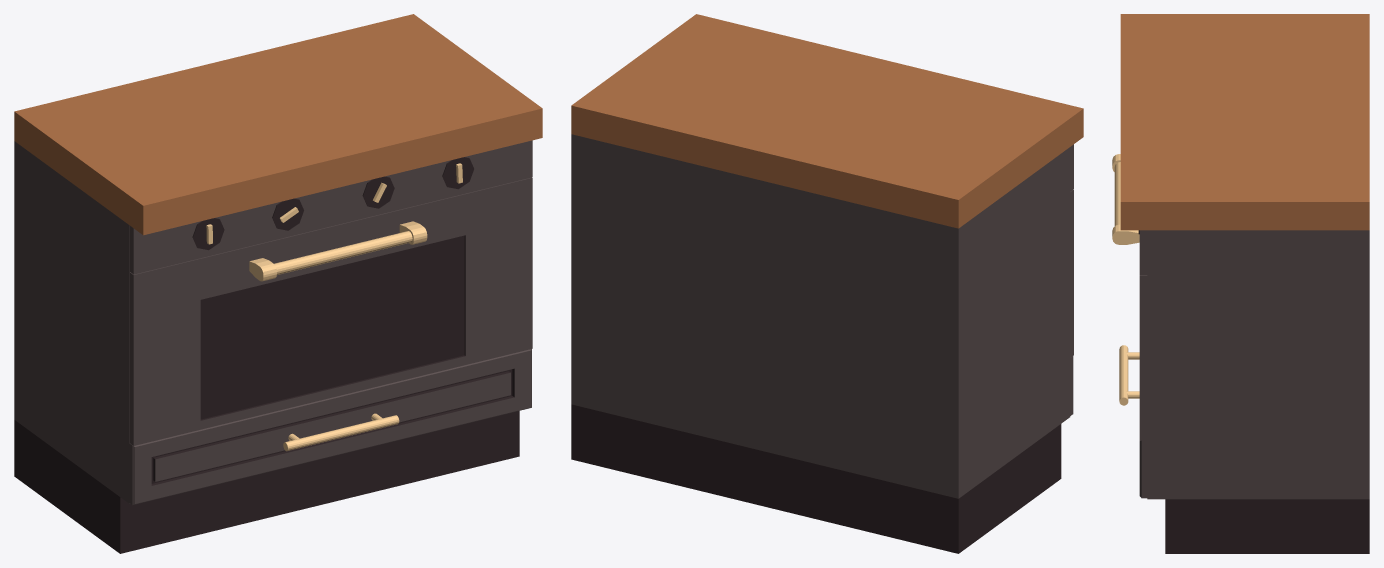
The model's file is Prop_KitchenOven.fbx.
The picture shows the model from 3 angles, left to right: view 1: azimuth 30°, elevation 25°; view 2: azimuth 150°, elevation 25°; view 3: azimuth 270°, elevation 25°; orthographic projection. The views are drawn at different scales.
Parts seen in each view (by area): view 1: Prop_KitchenOven; view 2: Prop_KitchenOven; view 3: Prop_KitchenOven.
Part boxes in pixels (<box>): Prop_KitchenOven: <box>14,14,542,553</box>; Prop_KitchenOven: <box>571,14,1083,553</box>; Prop_KitchenOven: <box>1112,14,1369,553</box>.
Size of the model in its own units: 120 by 105 by 69.37.
